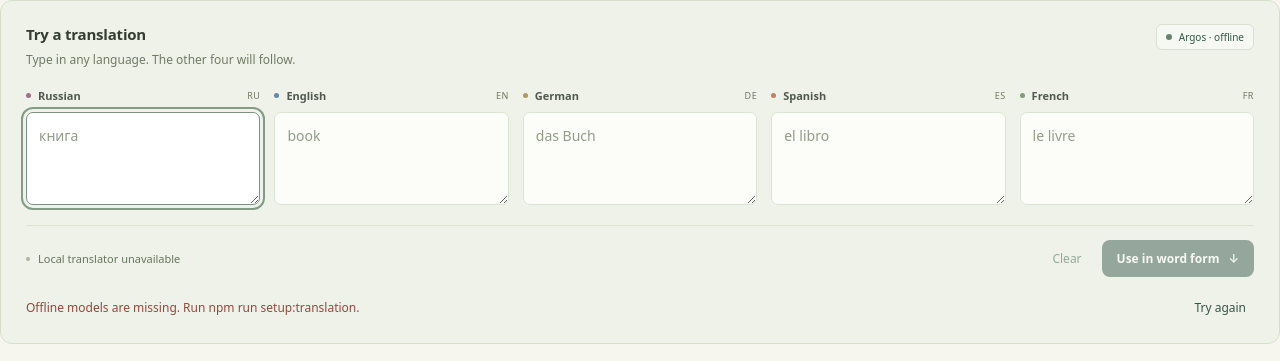
live translation requests › shows setup feedback and translates preserved input after models become available
Expected: the text "Offline models are missing. Run npm run setup:translation." is shown, [26,299,360,316]
Type "preserved" into the text box named "Translate English EN" at (392, 159), box [274,112,509,205]
Wait 1000 ms
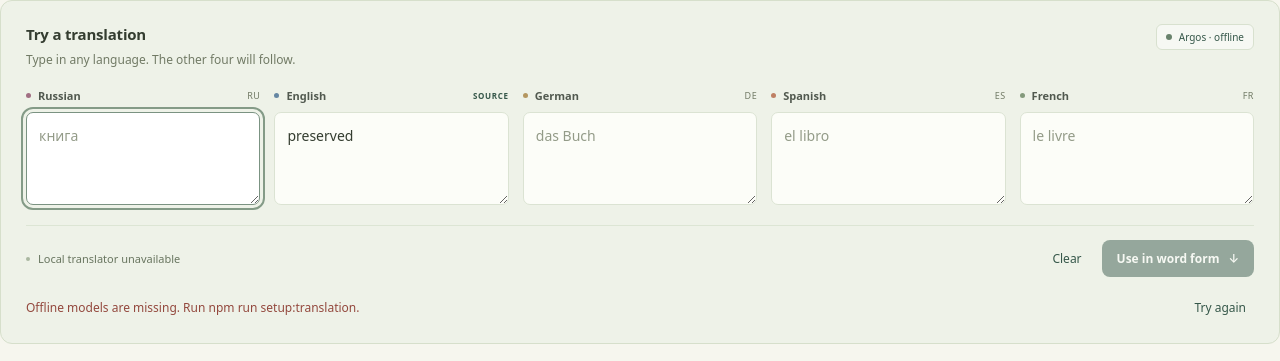
Click the button "Try again" at (1220, 308), box [1186,291,1254,324]
Wait 500 ms
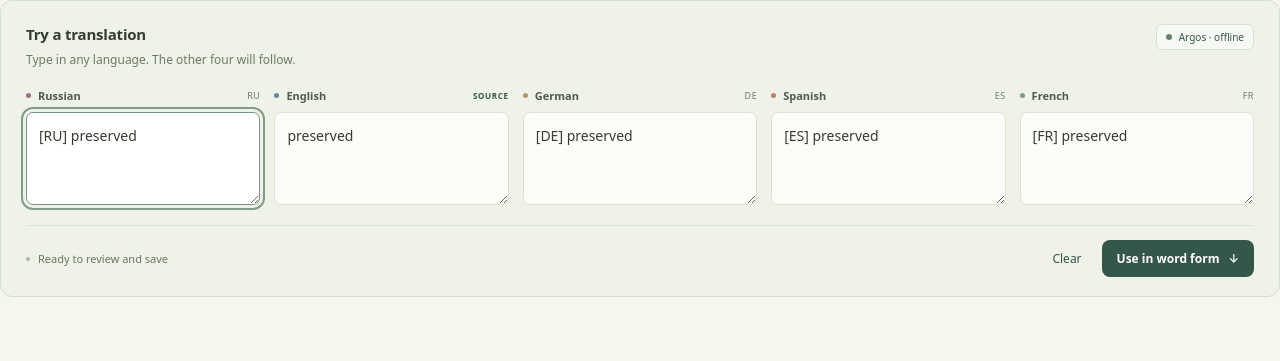
Result: the button "Use in word form ↓" is enabled at [1102,240,1254,277]
Result: the text "Offline models are missing. Run npm run setup:translation." is gone
